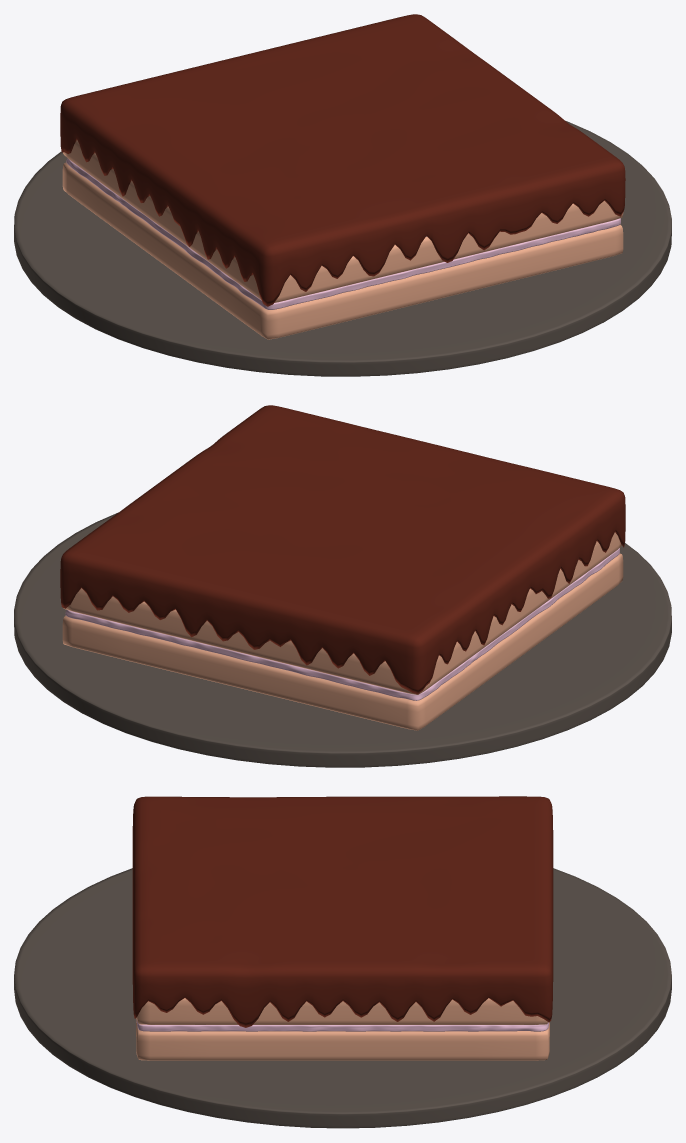
File: 2LayerSquareCake.fbx
The picture shows the model from 3 angles, top to bottom: view 1: azimuth 30°, elevation 25°; view 2: azimuth 150°, elevation 25°; view 3: azimuth 270°, elevation 25°; orthographic projection.
Visible parts, largest first — view 1: Cube.012, Cylinder.001, Cube.009, Cube.011, Cube.013; view 2: Cube.012, Cylinder.001, Cube.009, Cube.011, Cube.013; view 3: Cube.012, Cylinder.001, Cube.009, Cube.011, Cube.013.
Boxes of the visible parts, left/top/right/bottom form: Cube.012: left=60, top=14, right=625, bottom=306; Cylinder.001: left=14, top=121, right=671, bottom=376; Cube.009: left=62, top=162, right=623, bottom=339; Cube.011: left=63, top=140, right=623, bottom=302; Cube.013: left=66, top=158, right=620, bottom=309; Cube.012: left=60, top=405, right=625, bottom=694; Cylinder.001: left=14, top=512, right=671, bottom=767; Cube.009: left=62, top=553, right=623, bottom=730; Cube.011: left=63, top=532, right=621, bottom=694; Cube.013: left=65, top=548, right=619, bottom=700; Cube.012: left=132, top=796, right=553, bottom=1027; Cylinder.001: left=14, top=868, right=671, bottom=1128; Cube.009: left=136, top=1018, right=549, bottom=1060; Cube.011: left=136, top=998, right=547, bottom=1024; Cube.013: left=136, top=1019, right=548, bottom=1031.
Size of the model in its own units: 39.74 by 7.27 by 39.74.
